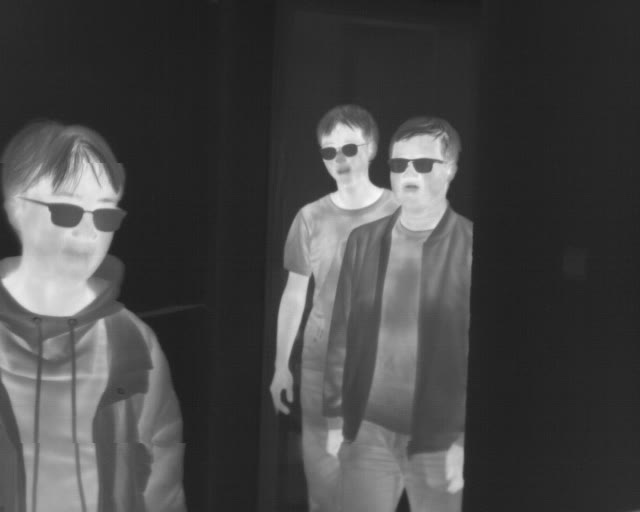face: (1, 118, 123, 282), (389, 115, 460, 211), (317, 103, 378, 187)
